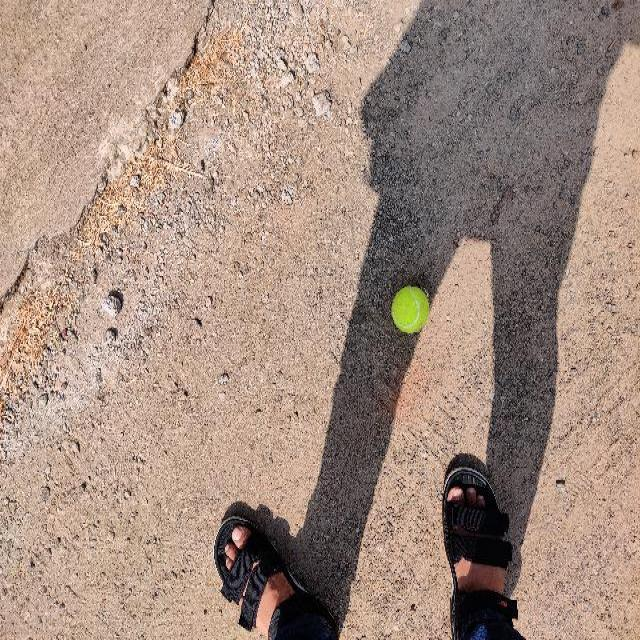tennis-ball: (392, 286, 429, 332)
